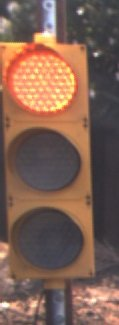Red: (7, 30, 101, 325)
